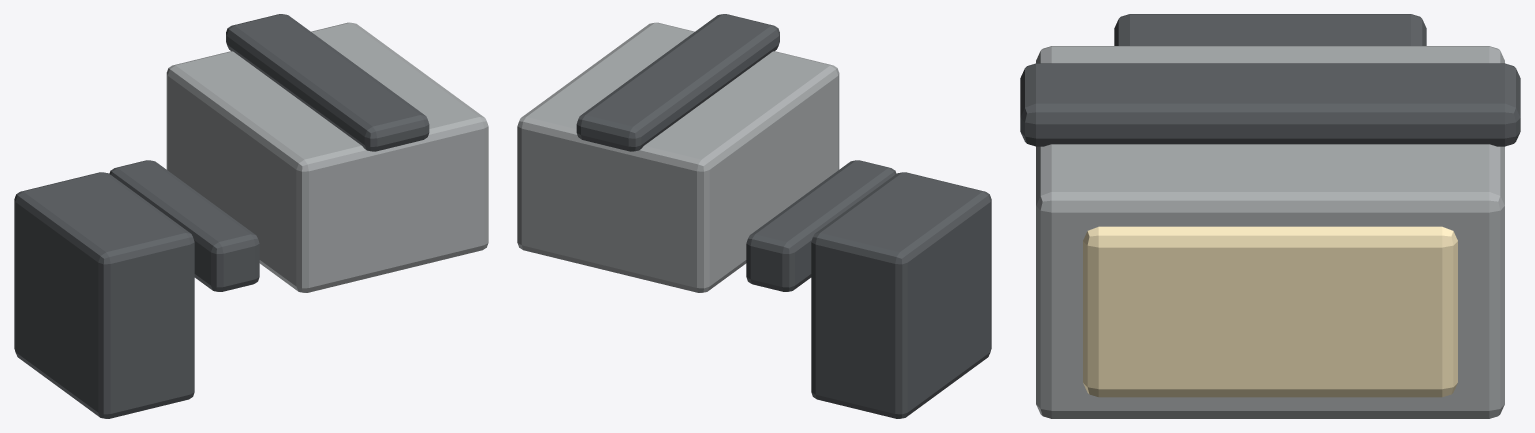
File: floodlight_wall.fbx
The picture shows the model from 3 angles, left to right: view 1: azimuth 30°, elevation 25°; view 2: azimuth 150°, elevation 25°; view 3: azimuth 270°, elevation 25°; orthographic projection. The views are drawn at different scales.
Visible parts, largest first — view 1: floodlight_wall; view 2: floodlight_wall; view 3: floodlight_wall.
Part boxes in pixels (x1,y1,x2,y2): floodlight_wall: (14, 14, 488, 418); floodlight_wall: (517, 14, 991, 418); floodlight_wall: (1020, 14, 1520, 418).
Bounding box in the file's own units: 0.47 × 0.305 × 0.32.
